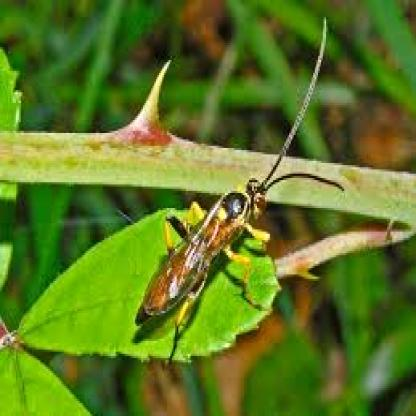sawfly: (133, 29, 348, 340)
